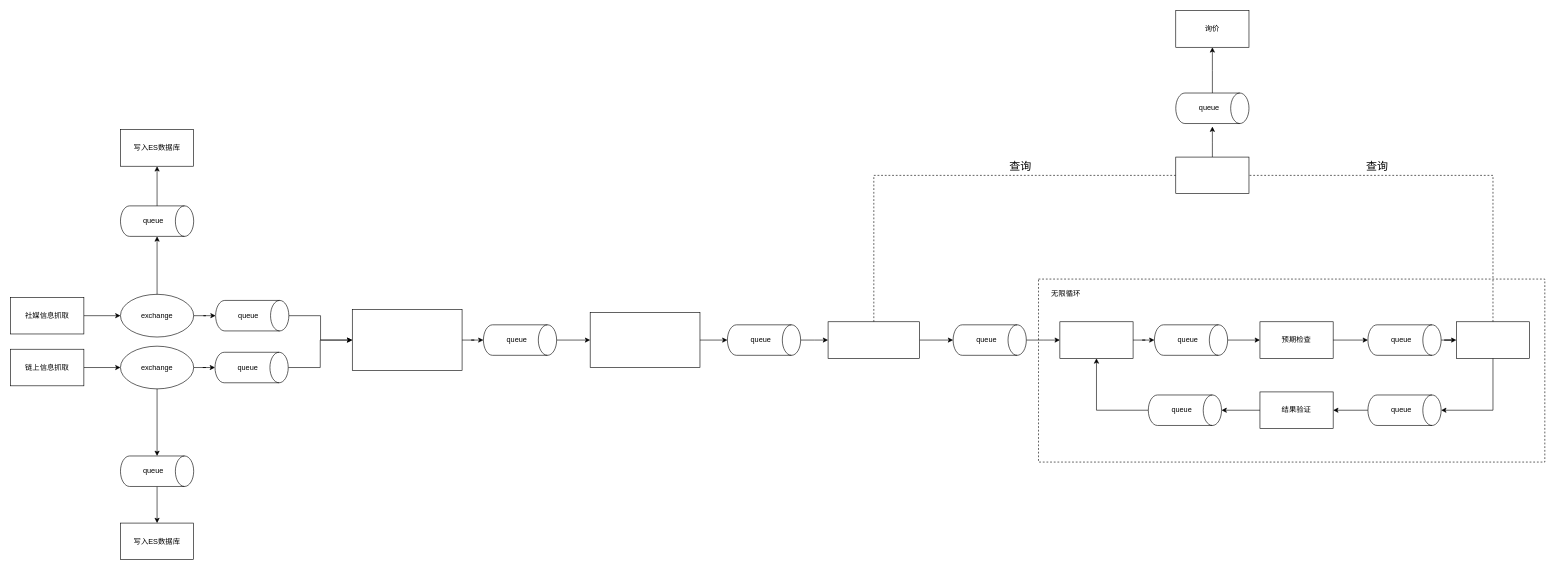
The diagram is 1556 pixels wide and 570 high, and some of its shapes have lost their labels. The shapes that lost their labels are listed below. From the top down, each one's box as (x1, y1, x2, y2) in pixels, then its label:
(1175, 156, 1249, 194): Redis
(352, 309, 462, 371): 综合静态检查
(590, 312, 700, 368): 综合代币决策器
(827, 321, 920, 358): 过滤掉重复订单 （同用户ID同策略同代币）
(1059, 321, 1133, 358): 主循环
(1456, 321, 1530, 358): 交易中心
